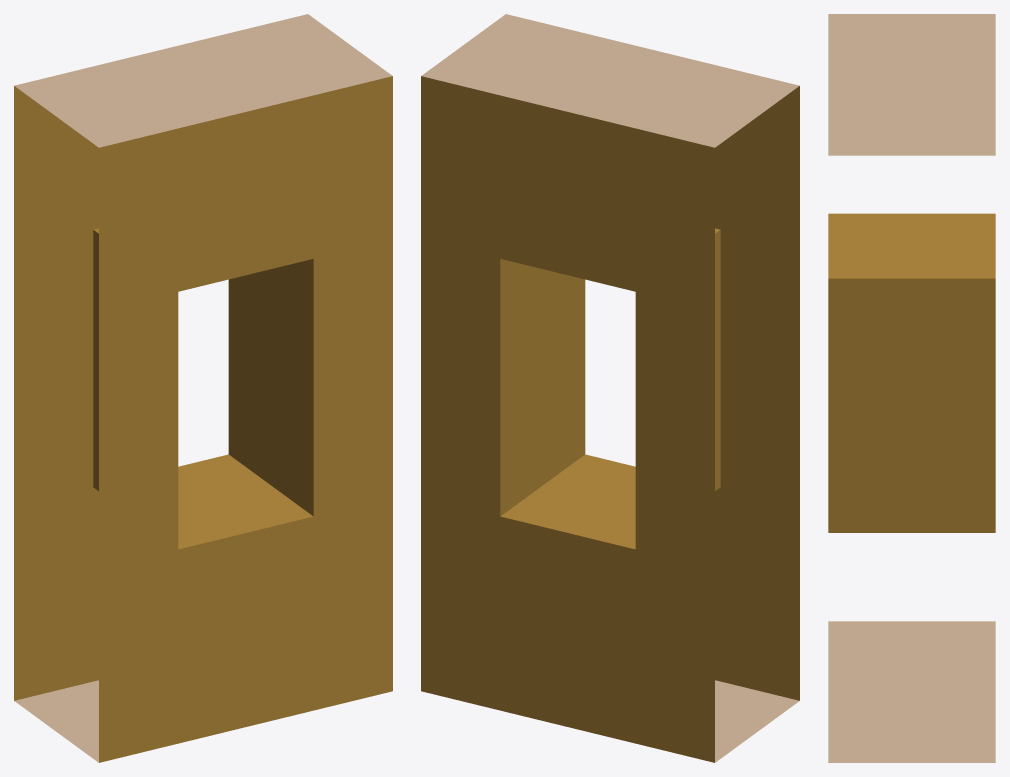
Rendered from WallWithWindow2_NoSides-Atl.fbx.
The picture shows the model from 3 angles, left to right: view 1: azimuth 30°, elevation 25°; view 2: azimuth 150°, elevation 25°; view 3: azimuth 270°, elevation 25°; orthographic projection.
Parts seen in each view (by area): view 1: Wall with windows v2_NoSides; view 2: Wall with windows v2_NoSides; view 3: Wall with windows v2_NoSides.
Part boxes in pixels (bbox=[...]): Wall with windows v2_NoSides: bbox=[14, 14, 392, 762]; Wall with windows v2_NoSides: bbox=[421, 14, 799, 762]; Wall with windows v2_NoSides: bbox=[828, 14, 995, 762].
Size of the model in its own units: 200 by 400 by 100.
